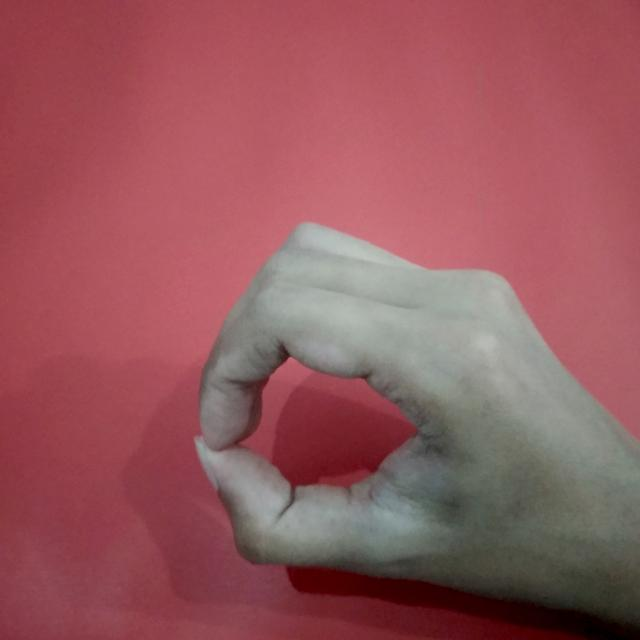O: (192, 215, 640, 640)
